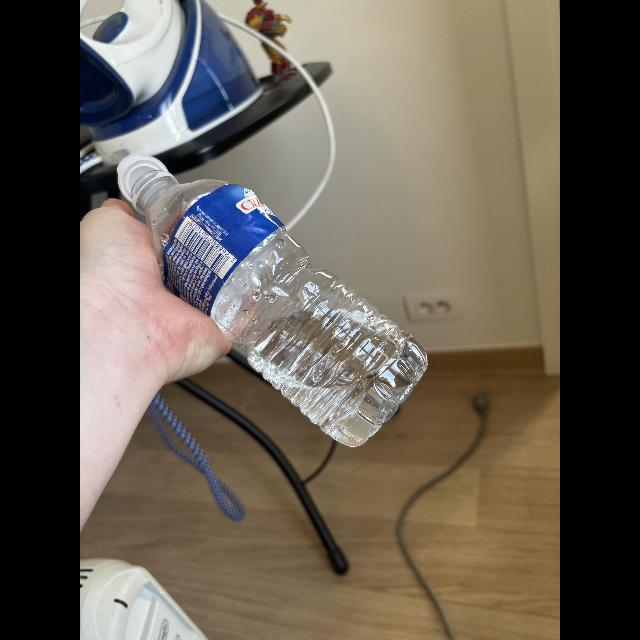Plastic: (110, 148, 428, 452)
